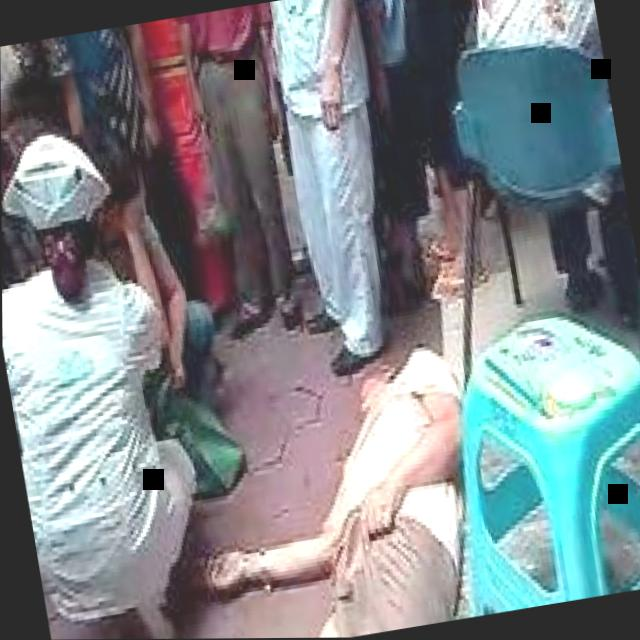Fall-Detected: (172, 308, 520, 639)
